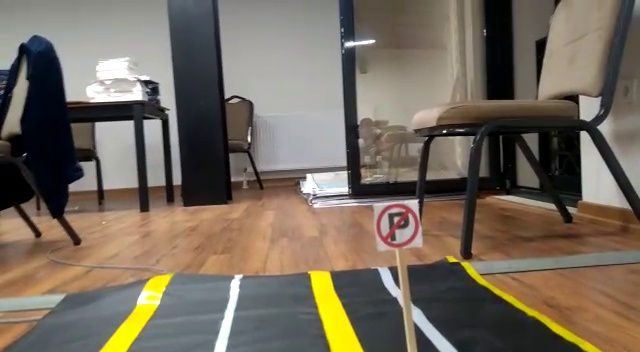park_yapilmaz: (374, 199, 422, 251)
